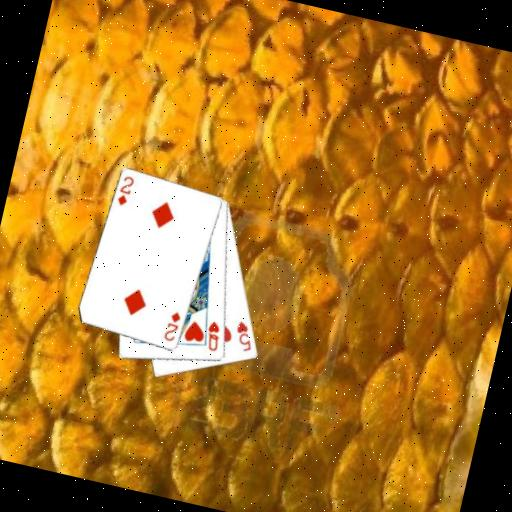2D: (113, 172, 137, 210), (161, 308, 184, 345)
5H: (229, 317, 259, 355)
QH: (200, 317, 225, 354)
